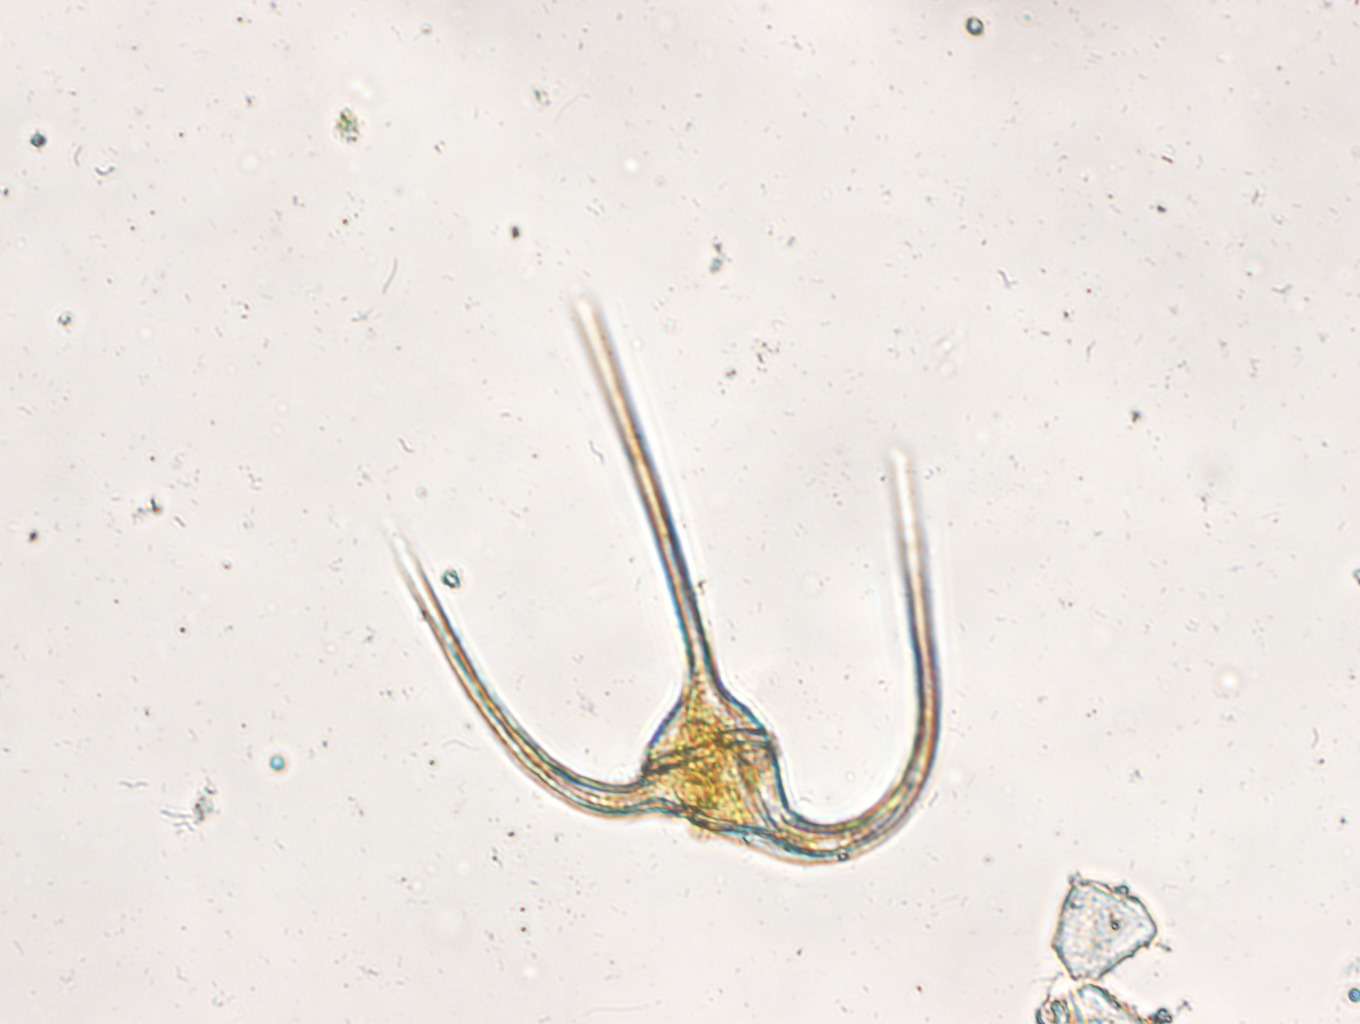ceratium trichoceros: (373, 270, 948, 872)
